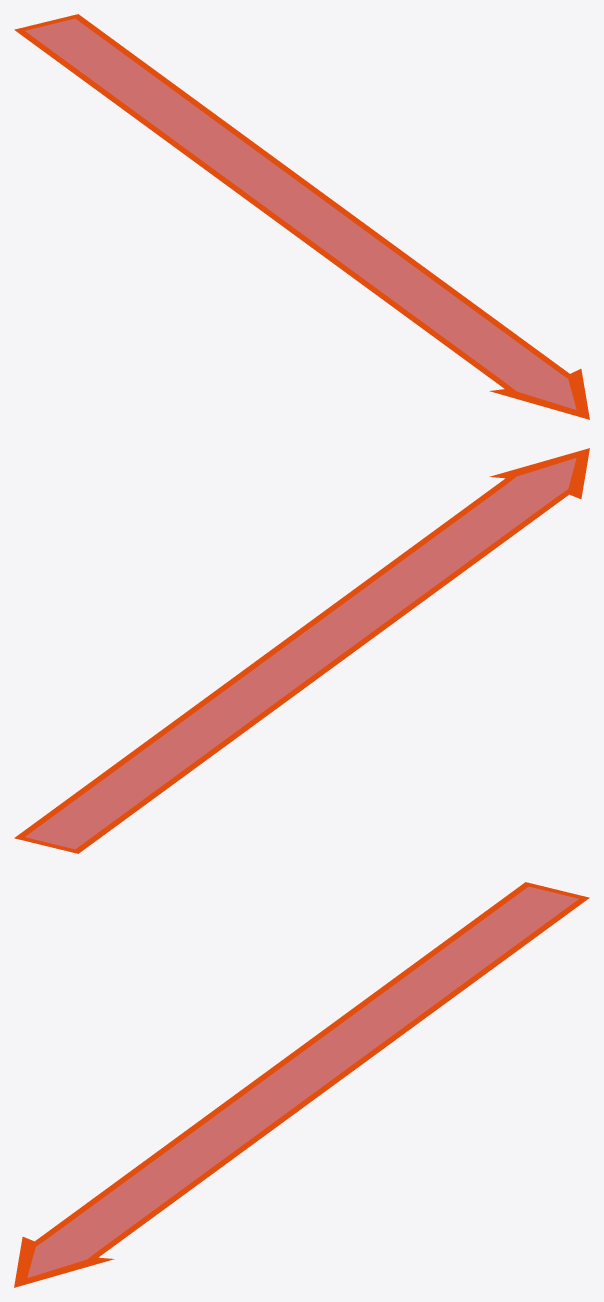
Rendered from WarningArea_Arrow.fbx.
3 views of the same model, one above another, from view 1: azimuth 30°, elevation 25°; view 2: azimuth 150°, elevation 25°; view 3: azimuth 330°, elevation 25° (orthographic).
Visible parts, largest first — view 1: WarningArea_Arrow; view 2: WarningArea_Arrow; view 3: WarningArea_Arrow.
Boxes of the visible parts, bbox=[...] form: WarningArea_Arrow: bbox=[14, 14, 589, 419]; WarningArea_Arrow: bbox=[14, 448, 589, 853]; WarningArea_Arrow: bbox=[14, 882, 589, 1287].
Size of the model in its own units: 85.31 by 0.000144 by 869.
